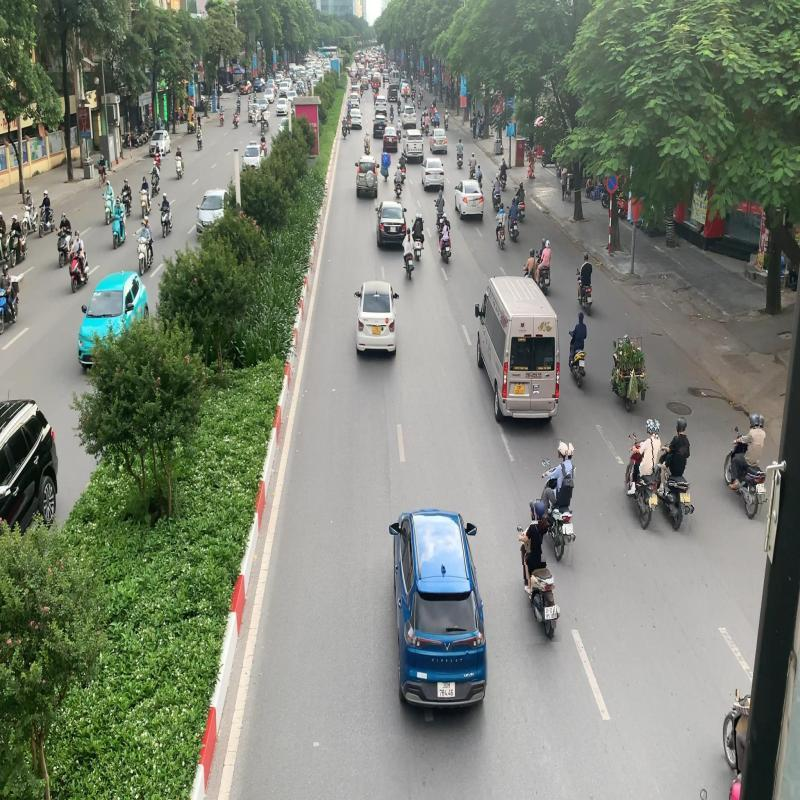helmet: (534, 500, 547, 521), (557, 441, 569, 459), (749, 411, 760, 428), (672, 417, 683, 433), (646, 418, 655, 436)
licenseplate: (544, 606, 554, 620), (564, 522, 574, 534), (652, 496, 662, 507), (758, 483, 766, 493), (683, 493, 690, 503)
motorcyclist: (516, 499, 560, 644), (652, 415, 698, 532), (538, 439, 580, 564), (722, 412, 770, 520), (622, 417, 666, 530)
